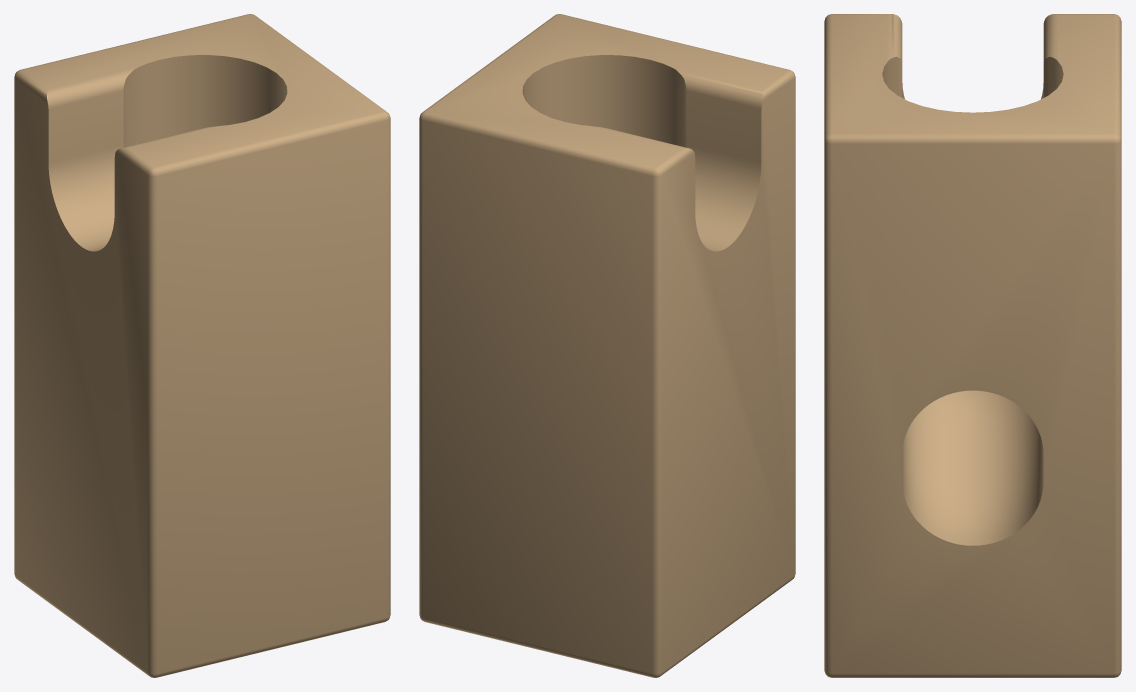
The model's file is blk_redirect_l2.glb.
3 views of the same model, side by side, from view 1: azimuth 30°, elevation 25°; view 2: azimuth 150°, elevation 25°; view 3: azimuth 270°, elevation 25° (orthographic). The views are drawn at different scales.
Parts seen in each view (by area): view 1: blk_redirect_l2_lod0; view 2: blk_redirect_l2_lod0; view 3: blk_redirect_l2_lod0.
Part boxes in pixels (left/top/right/bottom): blk_redirect_l2_lod0: left=14, top=14, right=390, bottom=677; blk_redirect_l2_lod0: left=419, top=14, right=795, bottom=677; blk_redirect_l2_lod0: left=824, top=14, right=1121, bottom=677.
Size of what is drawn, in the model's own units: 0.059 by 0.119 by 0.059.
